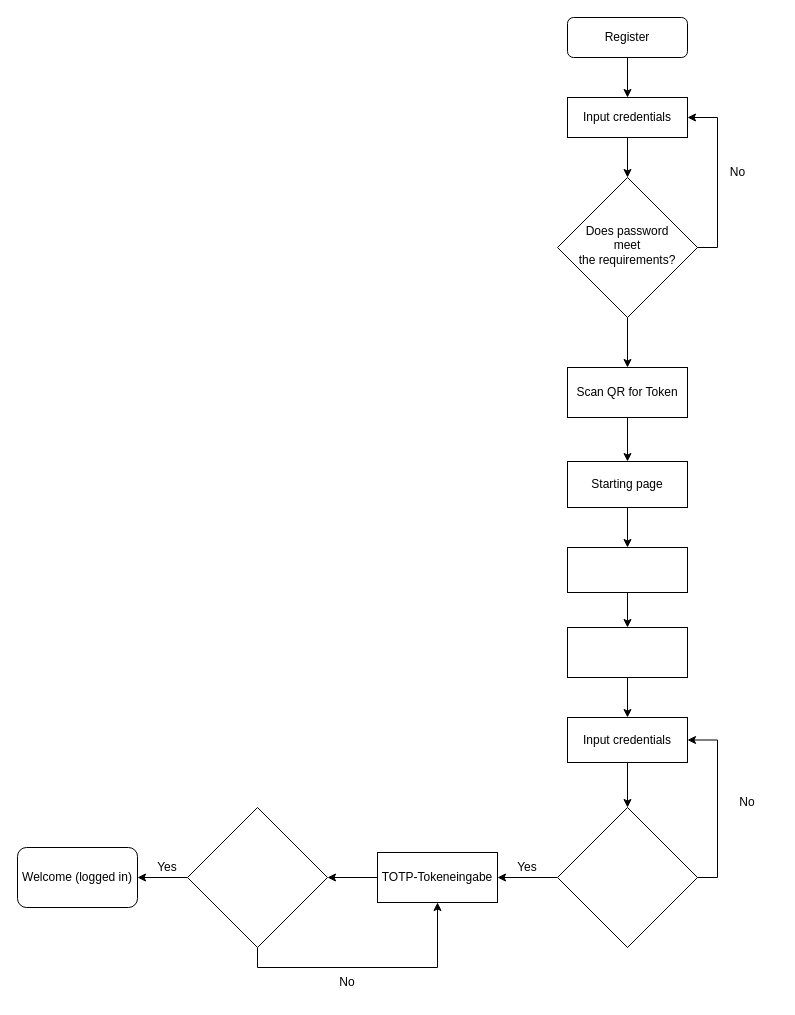
Image size: 795x1015. Some labels were removed from this diagram. Each missing label, with the box of its shape:
Is a user found?: (556, 806, 698, 948)
Login page: (566, 626, 688, 678)
Proceed to the login page: (566, 546, 688, 592)
TOTP-Token korrekt?: (186, 806, 328, 948)
